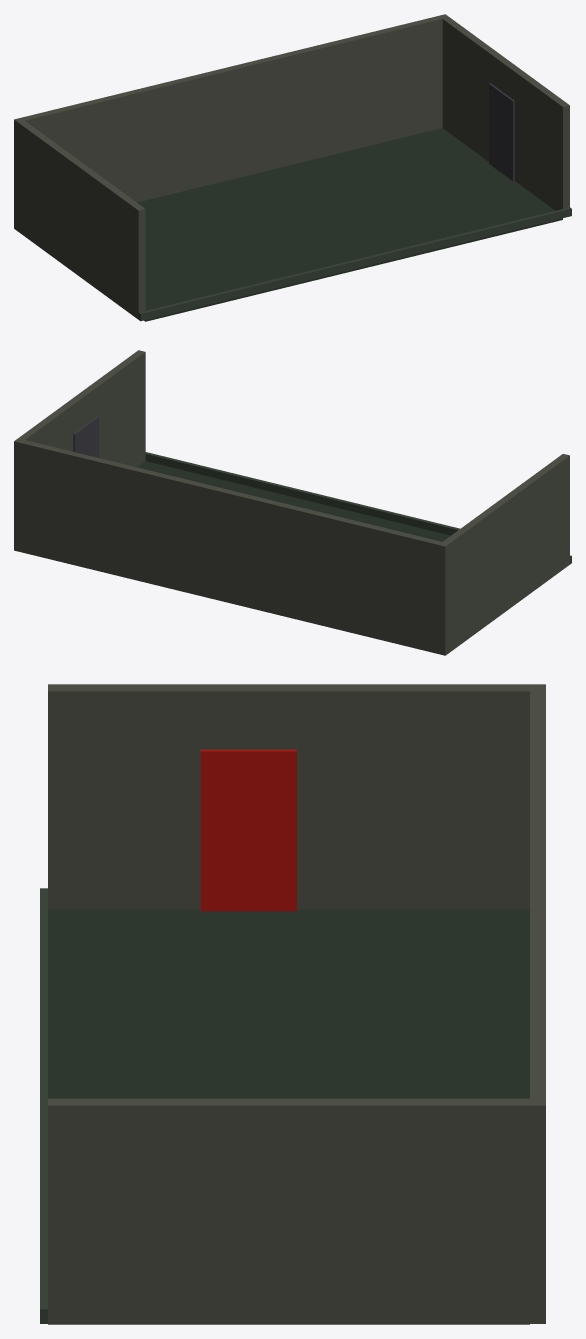
File: sewer_deep.obj
3 views of the same model, one above another, from view 1: azimuth 30°, elevation 25°; view 2: azimuth 150°, elevation 25°; view 3: azimuth 270°, elevation 25° (orthographic). The views are drawn at different scales.
Bounding box in the file's own units: 12.4 × 3.1 × 6.3.
